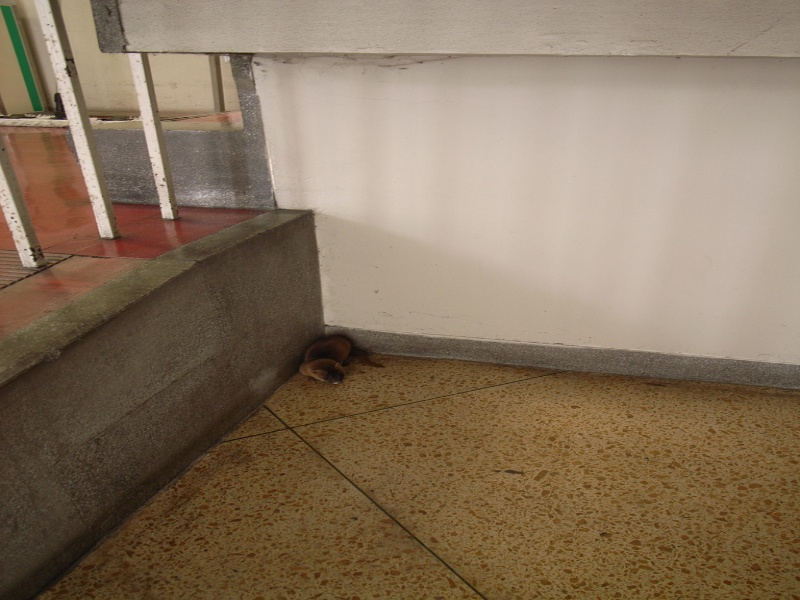minkish: (290, 328, 386, 393)
